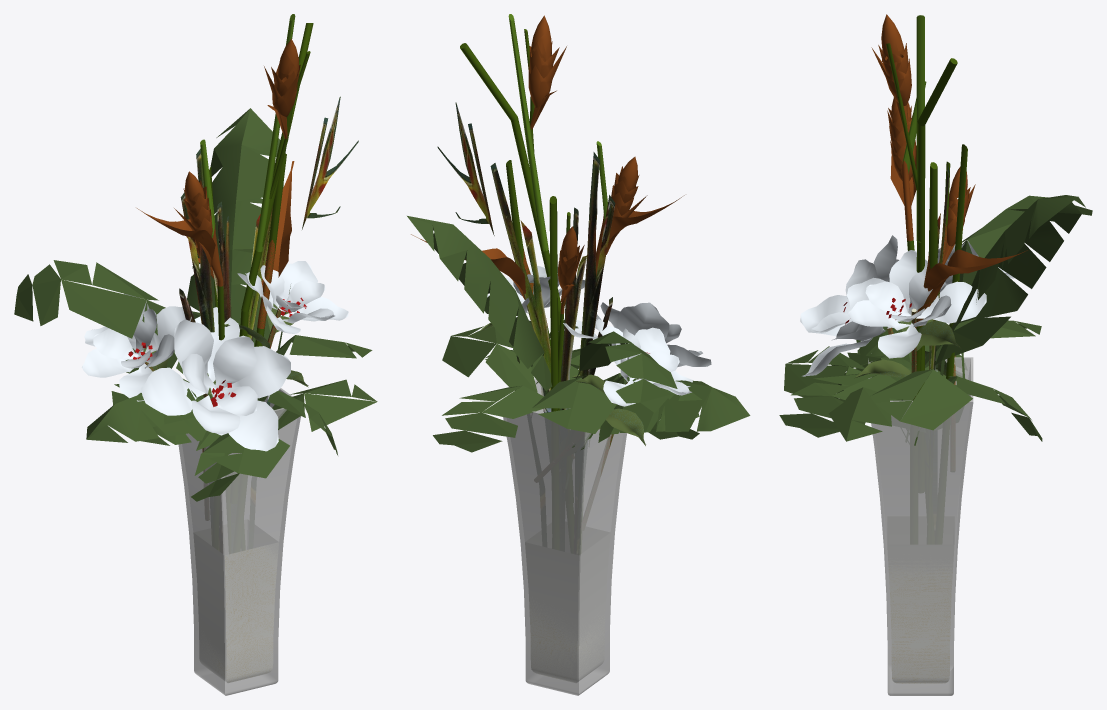
3 views of the same model, side by side, from view 1: azimuth 30°, elevation 25°; view 2: azimuth 150°, elevation 25°; view 3: azimuth 270°, elevation 25° (orthographic). The views are drawn at different scales.
Parts seen in each view (by area): view 1: group_65 (×2), 群组_39 (×17), group_52, group_0 (×5), group_66, group_40 (×5), group_61, group_55, group_2, group_38, group_54, group_53 (+4 smaller); view 2: group_65 (×2), group_0 (×5), group_52, group_66, group_61, group_51 (×3), group_40 (×3), group_53 (×2), group_50 (×2), 群组_39 (×3), group_38, group_2 (+4 smaller); view 3: group_65 (×2), 群组_39 (×12), group_52, group_66, group_0 (×4), group_53 (×2), group_64 (×4), group_55 (×2), group_2, group_54, group_40, group_38 (+6 smaller).
Part boxes in pixels (x1,y1,x2,y2): group_65 (×2): (178, 388, 300, 695); 群组_39 (×17): (82, 261, 348, 451); group_52: (187, 108, 283, 346); group_0 (×5): (179, 23, 358, 405); group_66: (199, 545, 277, 682); group_40 (×5): (14, 260, 158, 338); group_61: (86, 393, 205, 442); group_55: (304, 393, 376, 431); group_2: (261, 161, 294, 287); group_38: (255, 14, 295, 251); group_54: (238, 439, 289, 478); group_53: (289, 335, 356, 358); group_65 (×2): (503, 379, 627, 695); group_0 (×5): (437, 43, 615, 412); group_52: (407, 216, 552, 391); group_66: (529, 595, 604, 682); group_61: (575, 377, 750, 452); group_51 (×3): (433, 386, 543, 452); group_40 (×3): (580, 343, 677, 412); group_53 (×2): (442, 336, 537, 392); group_50 (×2): (532, 377, 616, 433); 群组_39 (×3): (618, 302, 711, 380); group_38: (508, 14, 548, 251); group_2: (411, 234, 525, 299); group_65 (×2): (868, 357, 973, 695); 群组_39 (×12): (800, 235, 986, 376); group_52: (935, 195, 1085, 375); group_66: (888, 554, 952, 683); group_0 (×4): (902, 58, 967, 391); group_53 (×2): (870, 369, 972, 430); group_64 (×4): (779, 374, 916, 437); group_55 (×2): (828, 387, 891, 441); group_2: (925, 249, 1027, 301); group_54: (784, 364, 848, 397); group_40: (967, 209, 1024, 257); group_38: (916, 15, 924, 242).
Bounding box in the file's own units: 17.01 × 14.69 × 36.19.
17 materials, 1 textured.
